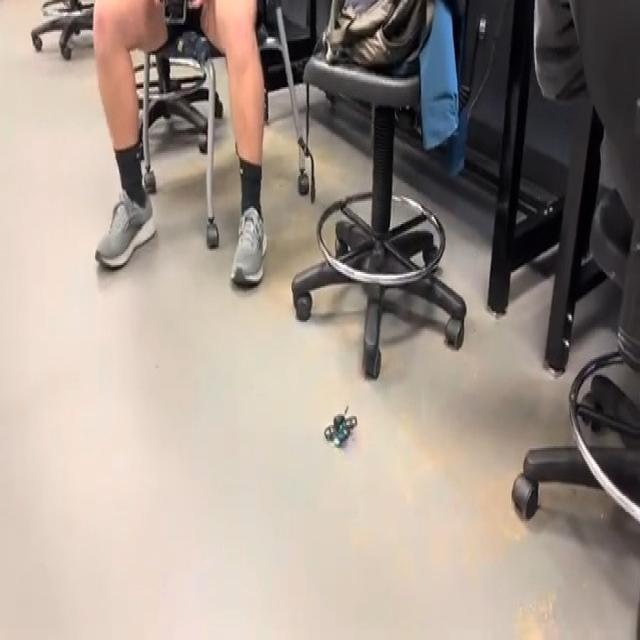drone: (316, 396, 364, 460)
